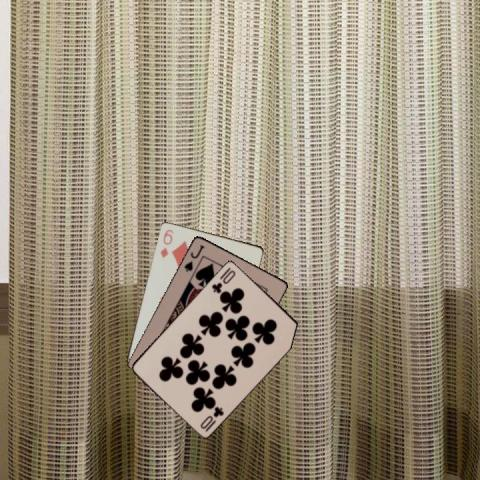10c: (208, 264, 236, 295), (198, 403, 226, 433)
6d: (157, 226, 175, 259)
Js: (181, 241, 206, 273)
